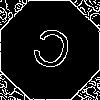C: (25, 25, 76, 81)
